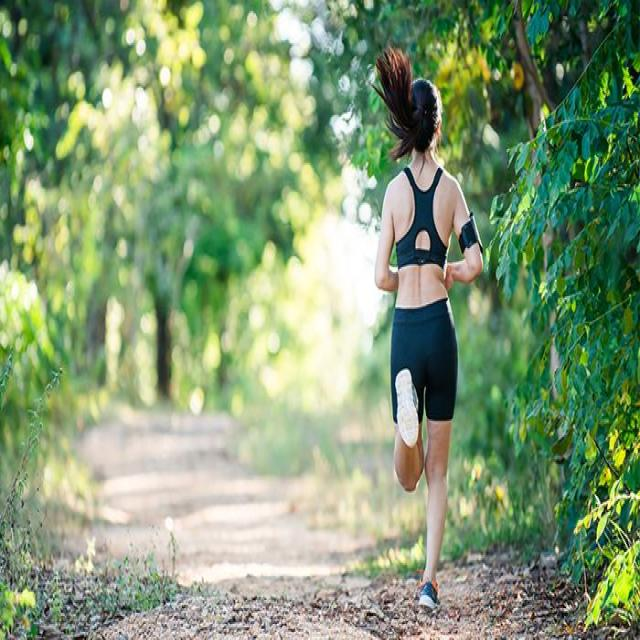running: (376, 76, 484, 615)
